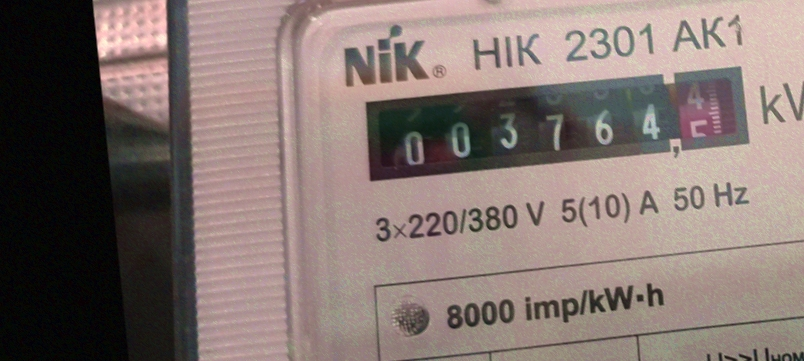0: (399, 127, 426, 167), (446, 119, 472, 160)
3: (493, 110, 520, 151)
4: (638, 101, 661, 142), (682, 78, 706, 112)
5: (685, 116, 709, 140)
6: (590, 106, 614, 147)
7: (541, 109, 568, 153)
screen: (345, 47, 765, 197)
